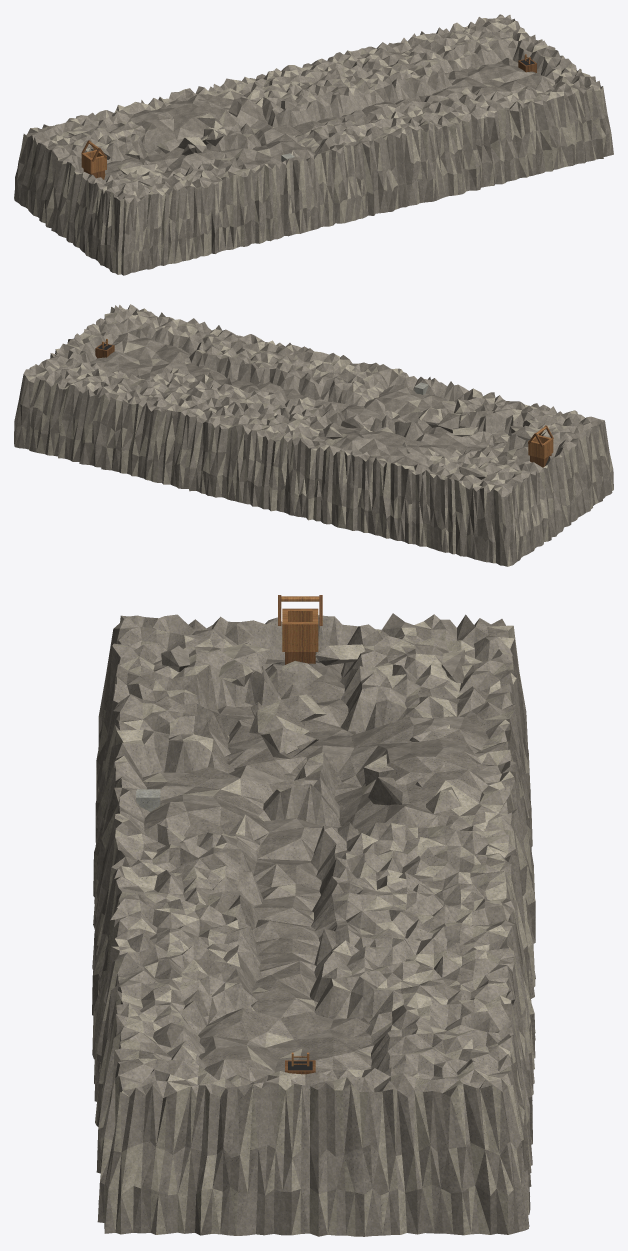
Rendered from cavern.glb.
The picture shows the model from 3 angles, top to bottom: view 1: azimuth 30°, elevation 25°; view 2: azimuth 150°, elevation 25°; view 3: azimuth 270°, elevation 25°; orthographic projection. The views are drawn at different scales.
Visible parts, largest first — view 1: Cavern_ShellSkin, Cavern_ShellRockTop, Cavern_RoofCeiling, Cavern_RoofBoulders, Cavern_RoofShaftHead; view 2: Cavern_ShellSkin, Cavern_ShellRockTop, Cavern_RoofCeiling, Cavern_RoofBoulders, Cavern_RoofShaftHead; view 3: Cavern_ShellRockTop, Cavern_ShellSkin, Cavern_RoofCeiling, Cavern_RoofBoulders, Cavern_RoofShaftHead.
Part boxes in pixels (box(x1,y1,x2,y2)): Cavern_ShellSkin: box(14, 37, 613, 275); Cavern_ShellRockTop: box(24, 14, 602, 203); Cavern_RoofCeiling: box(81, 58, 554, 181); Cavern_RoofBoulders: box(66, 88, 243, 186); Cavern_RoofShaftHead: box(81, 140, 106, 173); Cavern_ShellSkin: box(14, 315, 613, 566); Cavern_ShellRockTop: box(23, 304, 604, 497); Cavern_RoofCeiling: box(90, 332, 531, 466); Cavern_RoofBoulders: box(323, 407, 556, 479); Cavern_RoofShaftHead: box(528, 425, 553, 458); Cavern_ShellRockTop: box(110, 613, 516, 1097); Cavern_ShellSkin: box(92, 616, 535, 1236); Cavern_RoofCeiling: box(142, 659, 488, 1081); Cavern_RoofBoulders: box(161, 643, 464, 813); Cavern_RoofShaftHead: box(278, 595, 322, 651).
Size of the model in its own units: 42.01 by 7.13 by 16.06.
Materials: 19 (12 with a texture image).
